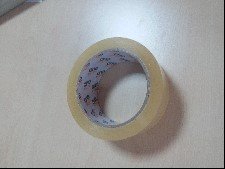band: (67, 36, 172, 140)
